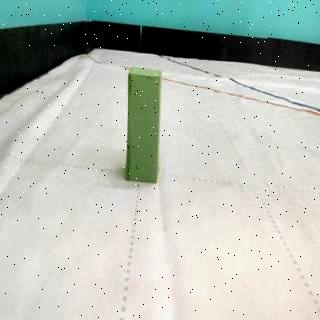greenbox: (124, 64, 166, 185)
